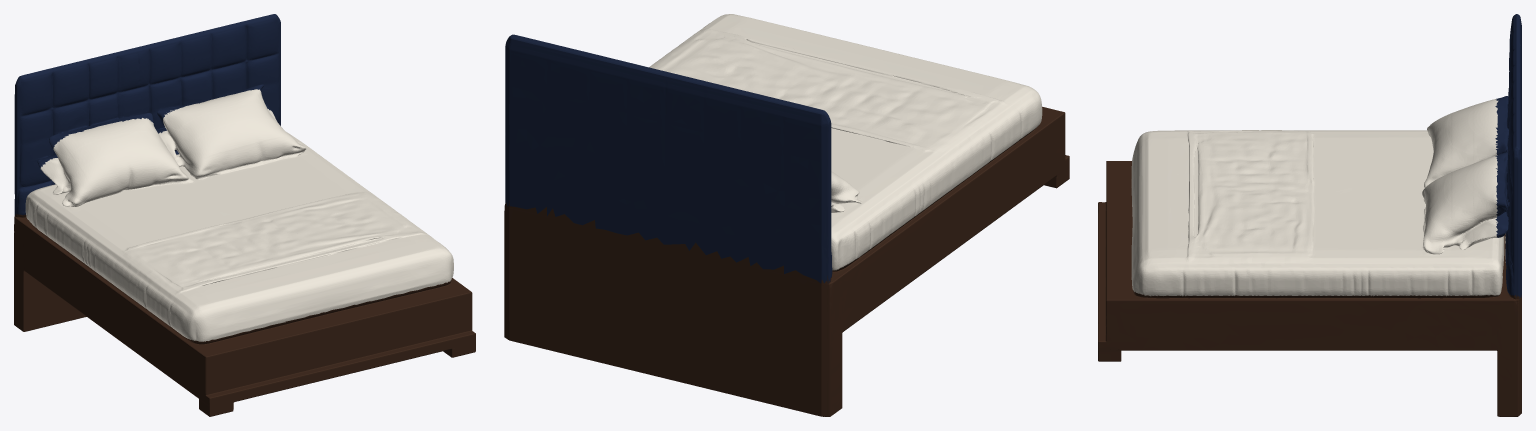
File: bed_semantic.glb
3 views of the same model, side by side, from view 1: azimuth 30°, elevation 25°; view 2: azimuth 150°, elevation 25°; view 3: azimuth 270°, elevation 25° (orthographic). The views are drawn at different scales.
Visible parts, largest first — view 1: RoomOne_Bed; view 2: RoomOne_Bed; view 3: RoomOne_Bed.
Boxes of the visible parts, x1=… form: RoomOne_Bed: x1=14, y1=14, x2=475, y2=416; RoomOne_Bed: x1=504, y1=14, x2=1069, y2=416; RoomOne_Bed: x1=1098, y1=14, x2=1521, y2=416.
Bounding box in the file's own units: 1.49 × 1.32 × 1.9.
